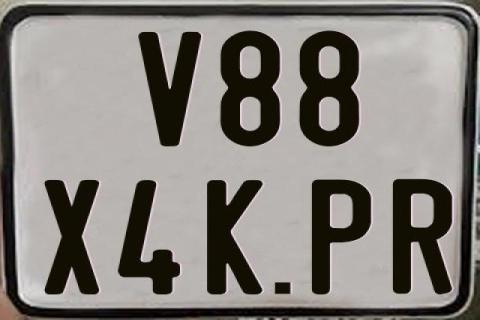0: (118, 178, 184, 298), (218, 28, 284, 146), (297, 30, 359, 150)
K: (204, 178, 262, 294)
P: (310, 178, 370, 298)
R: (393, 179, 458, 295)
V: (137, 32, 205, 151)
X: (42, 180, 99, 294)
